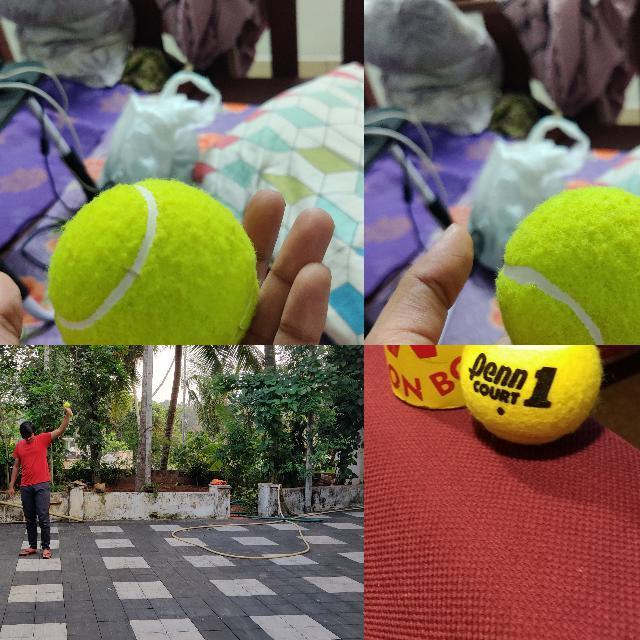tennis-ball: (47, 176, 260, 344), (495, 184, 639, 344), (459, 345, 603, 446), (65, 402, 70, 407)
